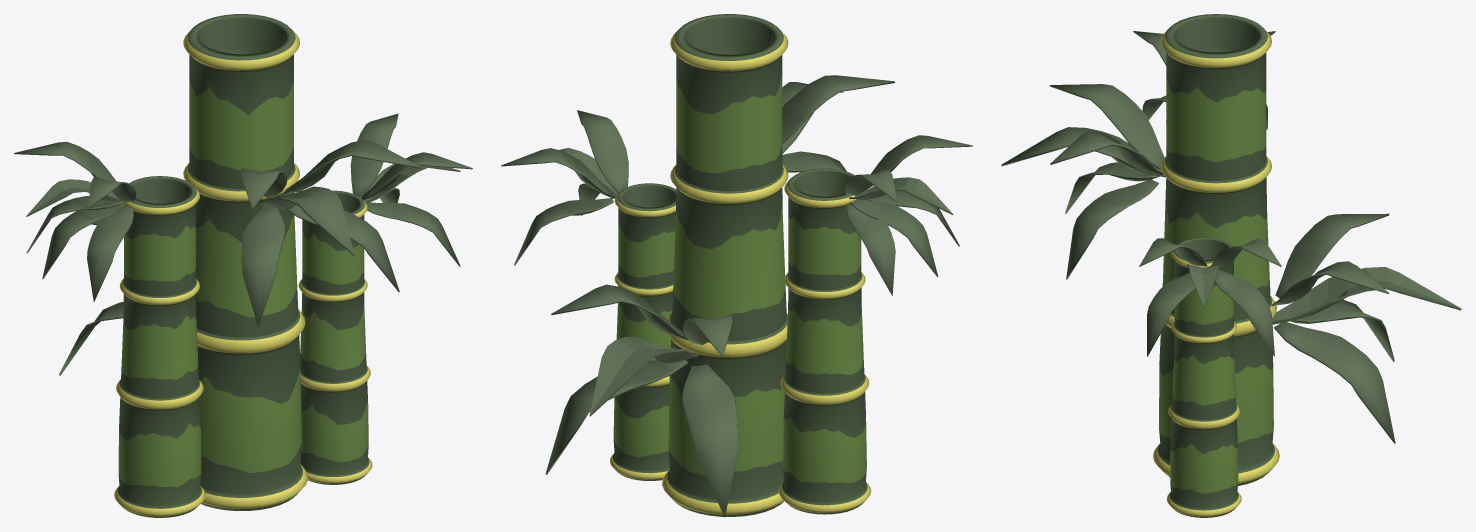
Rendered from BAMBOO.fbx.
3 renders of one model, left to right at view 1: azimuth 30°, elevation 25°; view 2: azimuth 150°, elevation 25°; view 3: azimuth 270°, elevation 25°, orthographic. The views are drawn at different scales.
Visible parts, largest first — view 1: Cylinder, Cylinder.002, Cylinder.003, Plane.005, Plane.001, Plane.036, Plane.006, Plane.025, Plane.008, Plane.030, Plane.024, Plane.031 (+7 smaller); view 2: Cylinder, Cylinder.002, Cylinder.003, Plane.018, Plane.010, Plane.015, Plane.003, Plane.022, Plane.033, Plane.012, Plane.030, Plane.027 (+8 smaller); view 3: Cylinder, Cylinder.003, Plane.015, Plane.010, Plane.003, Plane.016, Plane.008, Plane.027, Plane.024, Plane.001, Plane.006, Plane.012 (+5 smaller).
Part boxes in pixels (x1,y1,x2,y2): Cylinder: [183, 14, 307, 510]; Cylinder.002: [114, 176, 205, 517]; Cylinder.003: [298, 190, 372, 484]; Plane.005: [241, 206, 284, 326]; Plane.001: [257, 186, 354, 255]; Plane.036: [87, 204, 133, 301]; Plane.006: [281, 140, 421, 196]; Plane.025: [350, 113, 398, 195]; Plane.008: [286, 204, 399, 292]; Plane.030: [42, 201, 125, 278]; Plane.024: [366, 202, 460, 266]; Plane.031: [14, 141, 116, 181]; Cylinder: [662, 14, 788, 516]; Cylinder.002: [778, 168, 871, 514]; Cylinder.003: [610, 183, 676, 480]; Plane.018: [682, 364, 738, 517]; Plane.010: [589, 337, 698, 416]; Plane.015: [545, 360, 687, 474]; Plane.003: [782, 75, 894, 143]; Plane.022: [577, 110, 628, 192]; Plane.033: [846, 199, 895, 295]; Plane.012: [551, 284, 688, 340]; Plane.030: [850, 199, 938, 276]; Plane.027: [514, 198, 613, 265]; Cylinder: [1153, 14, 1279, 485]; Cylinder.003: [1166, 237, 1241, 517]; Plane.015: [1274, 322, 1395, 443]; Plane.010: [1272, 267, 1461, 324]; Plane.003: [1050, 84, 1164, 168]; Plane.016: [1275, 213, 1389, 298]; Plane.008: [1066, 179, 1158, 279]; Plane.027: [1215, 269, 1274, 356]; Plane.024: [1147, 272, 1195, 356]; Plane.001: [1001, 127, 1166, 177]; Plane.006: [1050, 131, 1163, 174]; Plane.012: [1271, 261, 1388, 306].
Size of the model in its own units: 3545 by 3538 by 3440.
